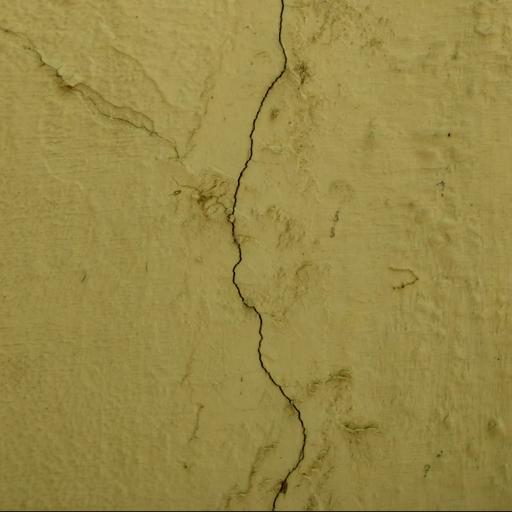minor_crack: (199, 0, 352, 512), (4, 7, 239, 234)
